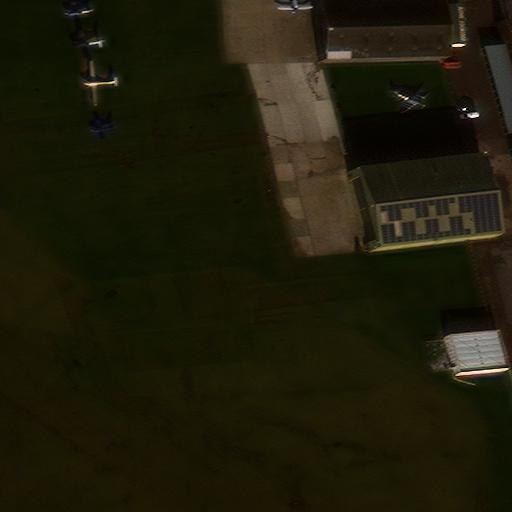Medium Civil Transport: (83, 60, 119, 106)
Military Fighter: (389, 86, 428, 113)
Small Civil Transport: (71, 26, 107, 56), (64, 0, 94, 24), (89, 118, 114, 138), (277, 0, 313, 13)
